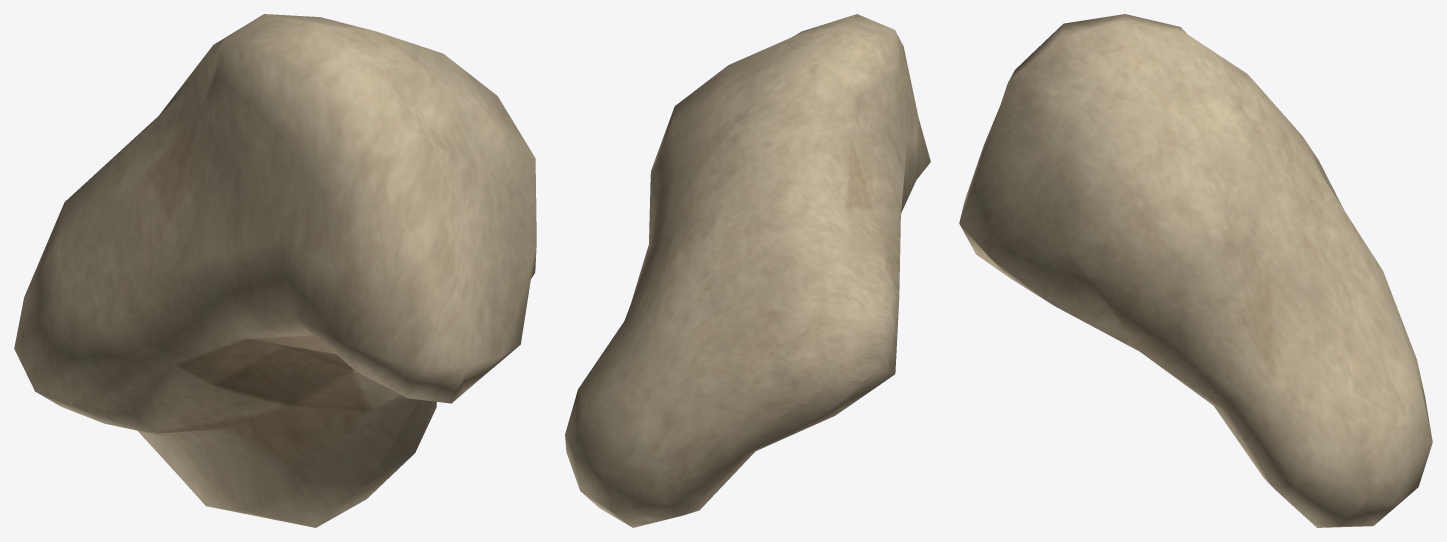
The model's file is Ulnar.glb.
3 views of the same model, side by side, from view 1: azimuth 30°, elevation 25°; view 2: azimuth 150°, elevation 25°; view 3: azimuth 270°, elevation 25° (orthographic). The views are drawn at different scales.
Visible parts, largest first — view 1: Ulnar_Left1:Group30385; view 2: Ulnar_Left1:Group30385; view 3: Ulnar_Left1:Group30385.
Part boxes in pixels (<box>): Ulnar_Left1:Group30385: <box>14,14,536,527</box>; Ulnar_Left1:Group30385: <box>565,14,930,527</box>; Ulnar_Left1:Group30385: <box>959,14,1432,527</box>.
Bounding box in the file's own units: 10.46 × 14.79 × 14.13.
Materials: 1 (1 with a texture image).
